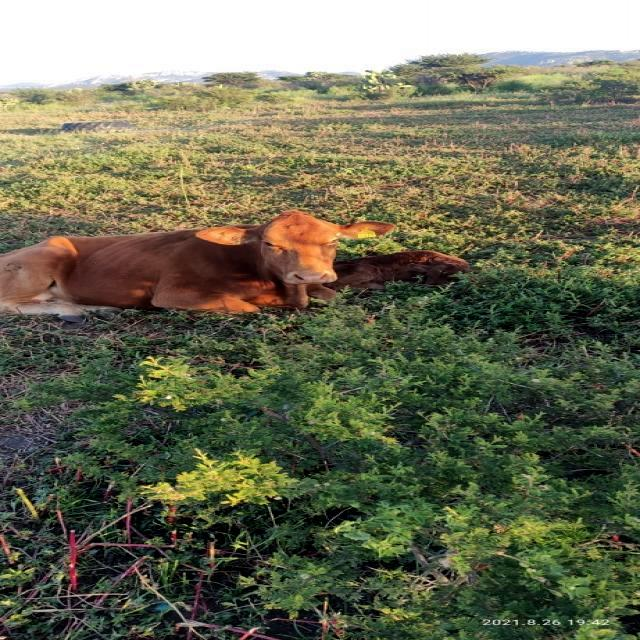COW: (0, 210, 469, 314)
